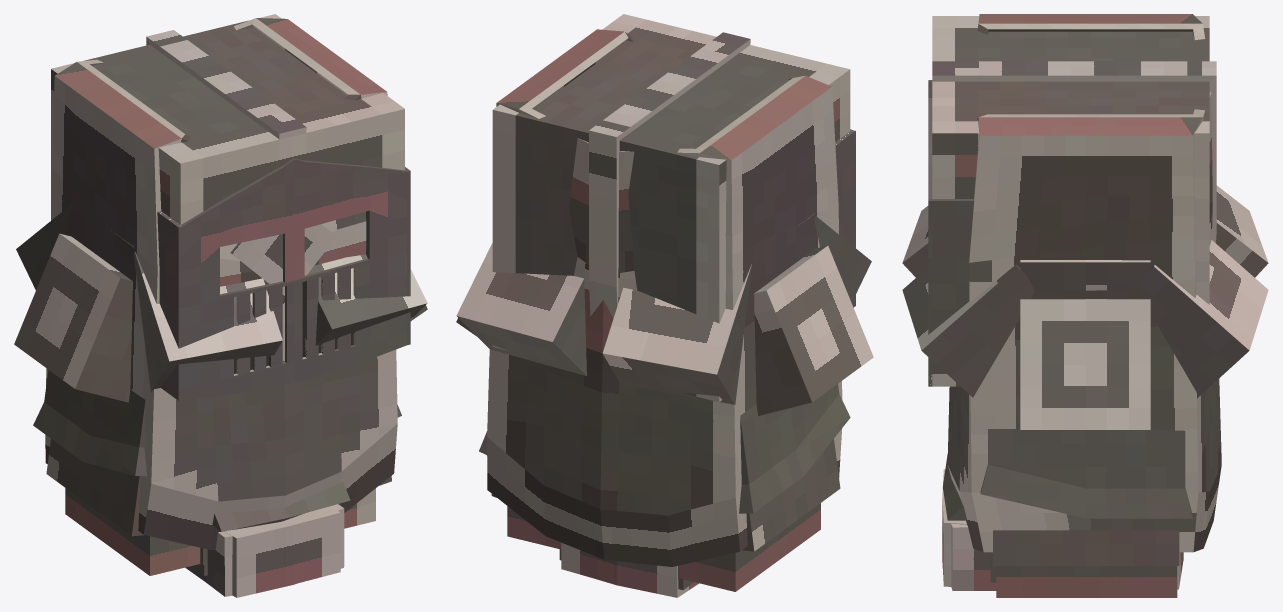
Rendered from texturedIronArmor.glb.
3 views of the same model, side by side, from view 1: azimuth 30°, elevation 25°; view 2: azimuth 150°, elevation 25°; view 3: azimuth 270°, elevation 25° (orthographic). The views are drawn at different scales.
Parts seen in each view (by area): view 1: textured iron helmet, textured iron chestplate, textured iron chestplate R 1, textured iron boot R, textured iron leggings, textured iron chestplate L 1, textured iron boot L, textured iron greave L, textured iron greave R; view 2: textured iron chestplate, textured iron helmet, textured iron chestplate R 1, textured iron chestplate L 1, textured iron leggings, textured iron boot L, textured iron boot R; view 3: textured iron chestplate L 1, textured iron chestplate, textured iron helmet, textured iron leggings, textured iron chestplate R 1, textured iron boot L, textured iron boot R, textured iron greave R.
Part boxes in pixels (x1,y1,x2,y2): textured iron helmet: (51, 14, 410, 400); textured iron chestplate: (45, 18, 397, 549); textured iron chestplate R 1: (14, 205, 282, 536); textured iron boot R: (185, 505, 340, 596); textured iron leggings: (65, 488, 375, 575); textured iron chestplate L 1: (302, 254, 427, 485); textured iron boot L: (224, 504, 344, 597); textured iron greave L: (212, 508, 288, 531); textured iron greave R: (284, 482, 350, 517); textured iron chestplate: (487, 29, 842, 566); textured iron helmet: (492, 14, 855, 401); textured iron chestplate R 1: (602, 214, 873, 551); textured iron chestplate L 1: (456, 243, 586, 497); textured iron leggings: (507, 503, 820, 591); textured iron boot L: (606, 561, 698, 597); textured iron boot R: (561, 542, 620, 585); textured iron chestplate L 1: (902, 240, 1268, 565); textured iron chestplate: (947, 14, 1221, 552); textured iron helmet: (928, 16, 1216, 386); textured iron leggings: (996, 566, 1177, 597); textured iron chestplate R 1: (902, 185, 1268, 277); textured iron boot L: (942, 469, 1183, 590); textured iron boot R: (942, 491, 1183, 589); textured iron greave R: (943, 479, 966, 520).
Size of the model in its own units: 0.5079 by 0.6316 by 0.4269.
1 material, 1 textured.
